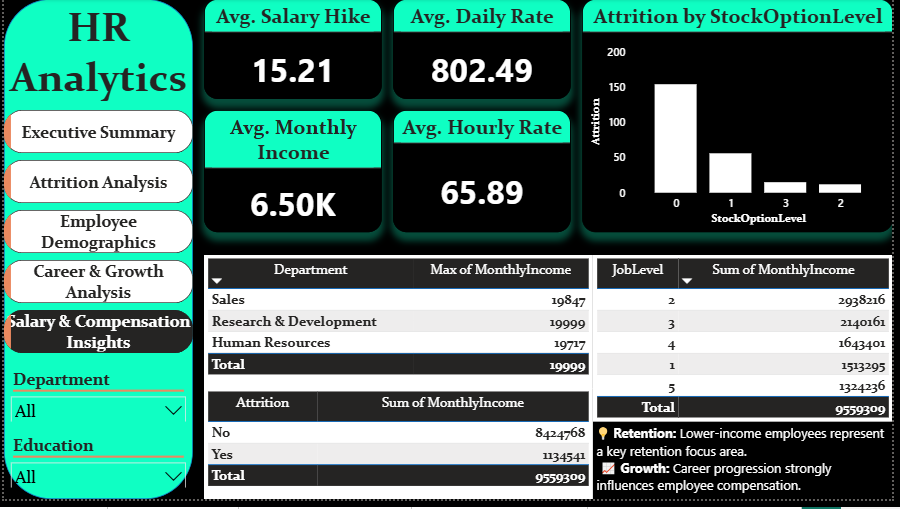

This screenshot's page, from the dashboard's own definition file:
{"tool":"powerbi","page":{"name":"Salary & Compensation Insights","canvas":[1280,720],"ordinal":4},"visuals":[{"type":"group","id":"g1","title":"Group 1","box":[0,0,272,720],"z":0},{"type":"shape","box":[0,0,272,720],"z":0,"group":"g1"},{"type":"textbox","box":[0,0,272,160],"z":1000,"group":"g1"},{"type":"cardVisual","title":"Avg. Salary Hike","fields":{"Data":["Avg(HR-Employee-Attrition (1).PercentSalaryHike)"]},"box":[288,0,256,144],"z":1000},{"type":"pageNavigator","box":[0,160,272,352],"z":2000,"group":"g1"},{"type":"cardVisual","title":"Avg. Monthly Income","fields":{"Data":["Avg(HR-Employee-Attrition (1).MonthlyIncome)"]},"box":[288,160,256,176],"z":2000},{"type":"cardVisual","title":"Avg. Daily Rate","fields":{"Data":["Avg(HR-Employee-Attrition (1).DailyRate)"]},"box":[560,0,256,144],"z":3000},{"type":"slicer","fields":{"Values":["HR-Employee-Attrition (1).Department"]},"box":[0,528,272,80],"z":3000,"group":"g1"},{"type":"cardVisual","title":"Avg. Hourly Rate","fields":{"Data":["Avg(HR-Employee-Attrition (1).HourlyRate)"]},"box":[560,160,256,176],"z":4000},{"type":"slicer","fields":{"Values":["HR-Employee-Attrition (1).Education"]},"box":[0,624,272,80],"z":4000,"group":"g1"},{"type":"columnChart","title":"Attrition by StockOptionLevel","fields":{"Y":["HR-Employee-Attrition (1).Attrition count"],"Category":["HR-Employee-Attrition (1).StockOptionLevel"]},"box":[832,0,448,336],"z":5000},{"type":"tableEx","fields":{"Values":["HR-Employee-Attrition (1).Department","Max(HR-Employee-Attrition (1).MonthlyIncome)"]},"box":[288,368,560,192],"z":5001},{"type":"tableEx","fields":{"Values":["HR-Employee-Attrition (1).Attrition","Sum(HR-Employee-Attrition (1).MonthlyIncome)"]},"box":[288,560,560,160],"z":5002},{"type":"tableEx","fields":{"Values":["HR-Employee-Attrition (1).JobLevel","Sum(HR-Employee-Attrition (1).MonthlyIncome)"]},"box":[848,368,432,240],"z":5003},{"type":"textbox","box":[848,608,432,112],"z":5004}]}

Visuals, with their boxes in screenshot pixels (x1, y1, x2, y2), scaled from the page's 1280x720 canvas onto the 900x509 screenshot:
"Group 1" group: crop(0, 0, 191, 508)
shape: crop(0, 0, 191, 508)
textbox: crop(0, 0, 191, 113)
"Avg. Salary Hike" cardVisual: crop(202, 0, 382, 102)
pageNavigator: crop(0, 113, 191, 362)
"Avg. Monthly Income" cardVisual: crop(202, 113, 382, 238)
"Avg. Daily Rate" cardVisual: crop(394, 0, 574, 102)
slicer - HR-Employee-Attrition (1).Department: crop(0, 373, 191, 430)
"Avg. Hourly Rate" cardVisual: crop(394, 113, 574, 238)
slicer - HR-Employee-Attrition (1).Education: crop(0, 441, 191, 498)
"Attrition by StockOptionLevel" columnChart: crop(585, 0, 899, 238)
tableEx - HR-Employee-Attrition (1).Department x Max(HR-Employee-Attrition (1).MonthlyIncome): crop(202, 260, 596, 396)
tableEx - HR-Employee-Attrition (1).Attrition x Sum(HR-Employee-Attrition (1).MonthlyIncome): crop(202, 396, 596, 508)
tableEx - HR-Employee-Attrition (1).JobLevel x Sum(HR-Employee-Attrition (1).MonthlyIncome): crop(596, 260, 899, 430)
textbox: crop(596, 430, 899, 508)
